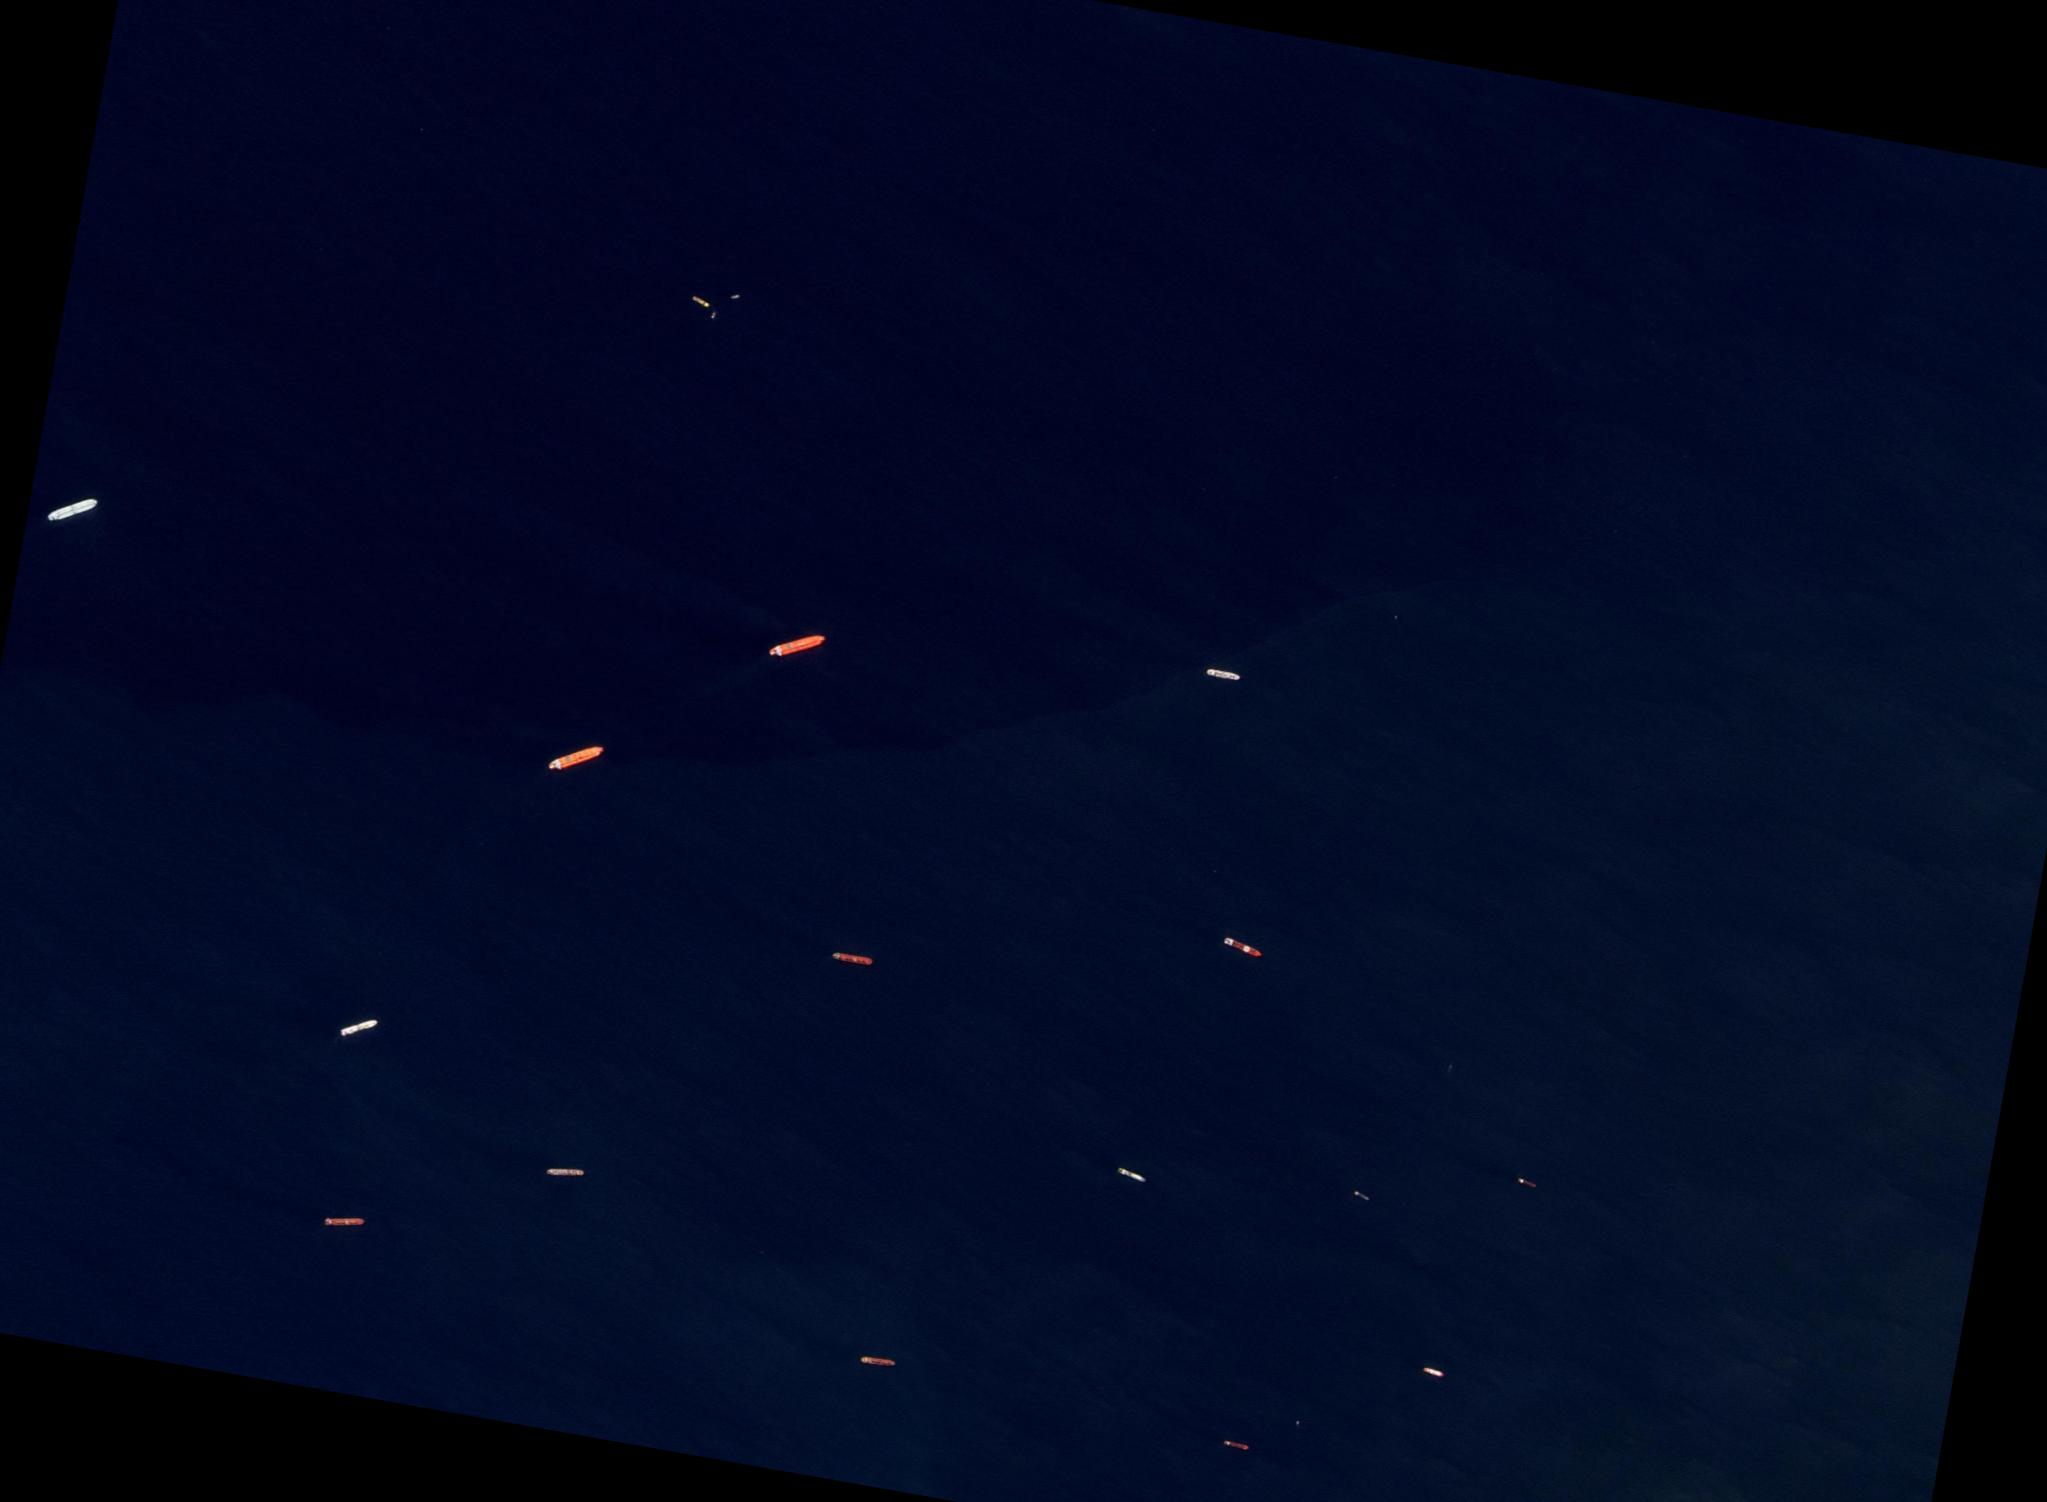ship: (544, 736, 602, 779), (764, 626, 823, 666), (43, 488, 95, 529), (337, 1012, 375, 1043), (1221, 936, 1263, 958), (319, 1211, 362, 1232), (544, 1163, 583, 1181), (830, 950, 873, 965), (1114, 1167, 1146, 1183), (857, 1356, 893, 1368), (1205, 668, 1240, 680), (1219, 1438, 1248, 1451), (1421, 1367, 1445, 1378), (688, 294, 709, 307), (1515, 1178, 1537, 1189), (1352, 1190, 1368, 1200), (707, 310, 715, 318), (728, 292, 737, 299), (1294, 1421, 1297, 1424)
